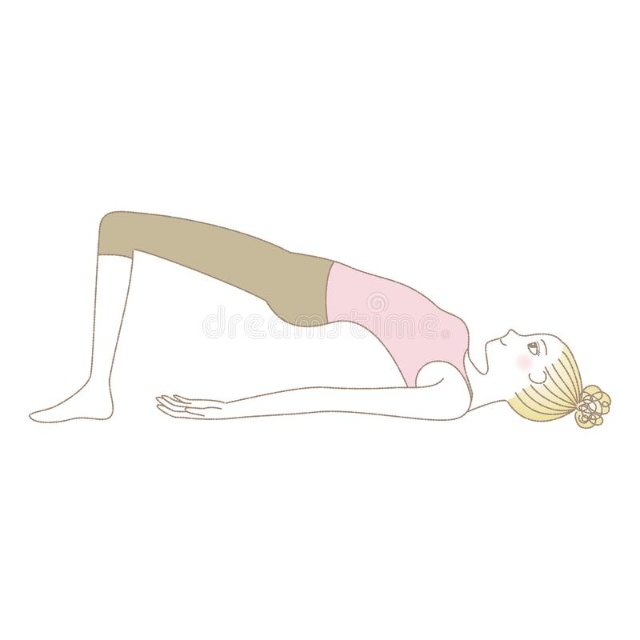Bridge_Pose: (16, 204, 625, 442)
